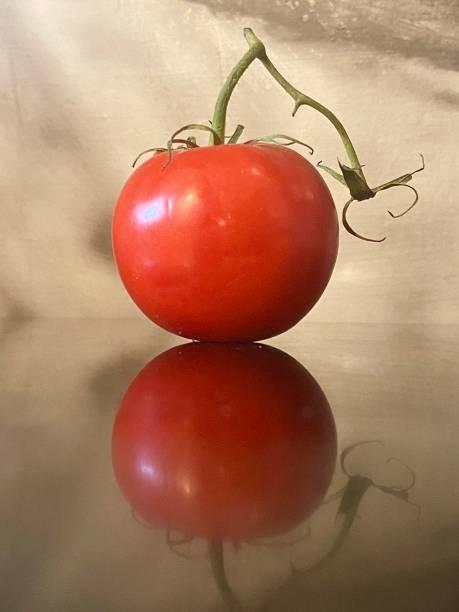Tomato: (115, 39, 385, 348)
